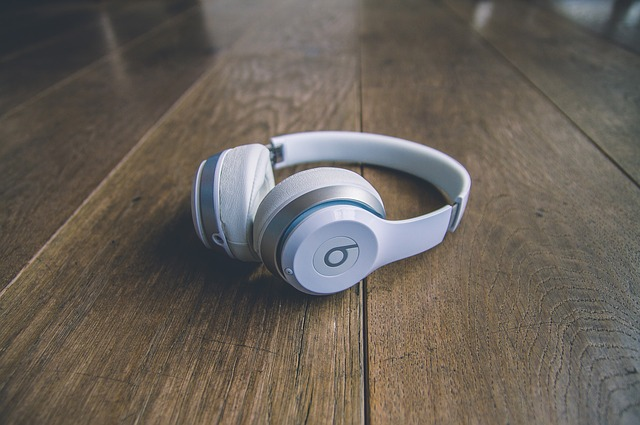headphones: (192, 132, 471, 296)
